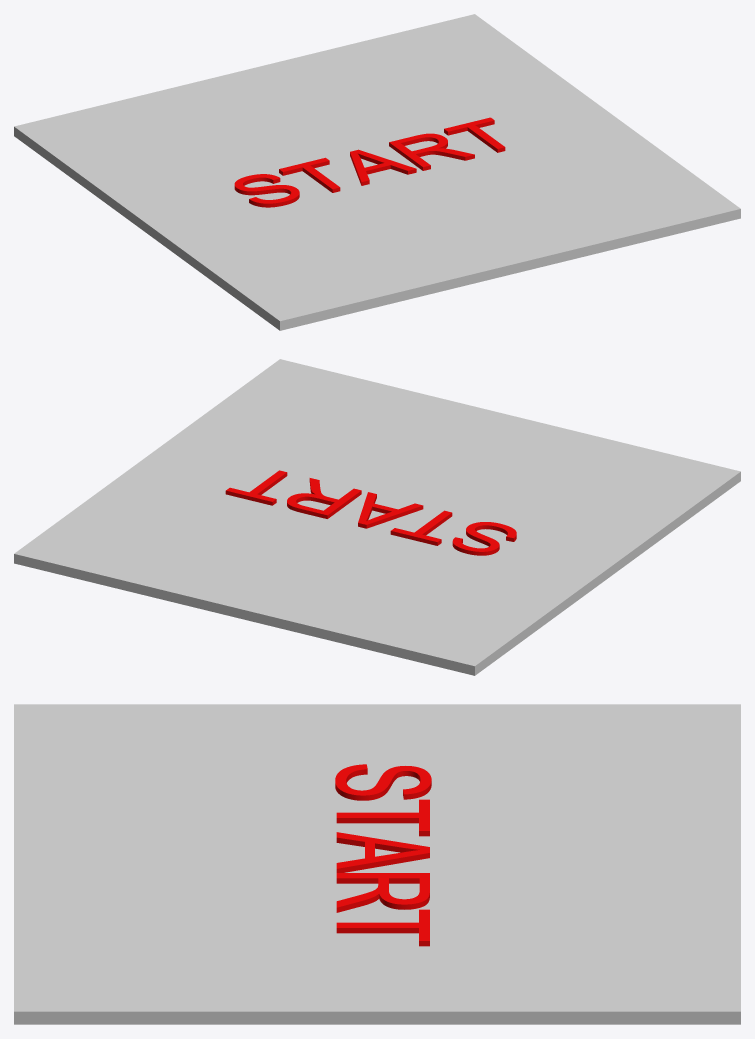
Rendered from checkpoint-start.glb.
3 views of the same model, one above another, from view 1: azimuth 30°, elevation 25°; view 2: azimuth 150°, elevation 25°; view 3: azimuth 270°, elevation 25° (orthographic). The views are drawn at different scales.
Parts seen in each view (by area): view 1: Box001, Text001; view 2: Box001, Text001; view 3: Box001, Text001.
Part boxes in pixels (left/top/right/bottom): Box001: left=14, top=14, right=740, bottom=330; Text001: left=234, top=117, right=505, bottom=207; Box001: left=14, top=359, right=740, bottom=675; Text001: left=225, top=470, right=516, bottom=555; Box001: left=14, top=704, right=740, bottom=1024; Text001: left=335, top=764, right=431, bottom=946.
Bounding box in the file's own units: 2.5 × 0.0699 × 2.5.
